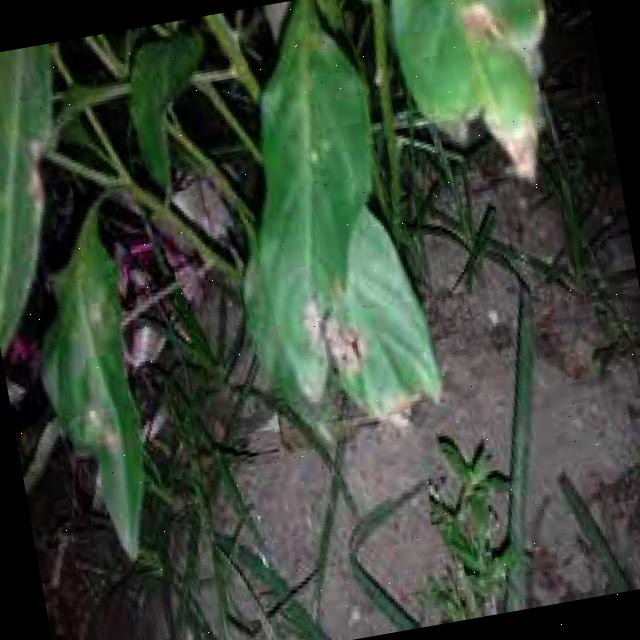leaf spot: (212, 19, 424, 415), (20, 248, 204, 602), (372, 0, 595, 215)
